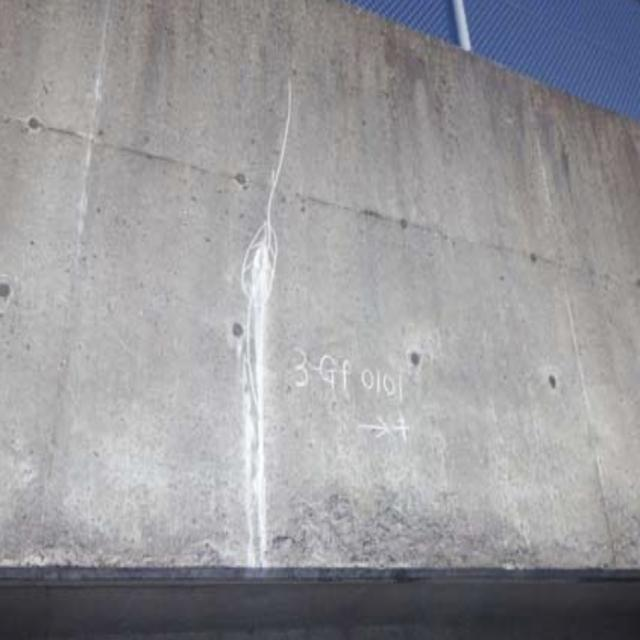freelime: (219, 224, 294, 566)
